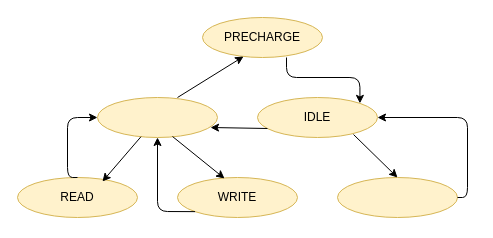
The diagram is 493 pixels wide and 238 high, and some of its shapes have lost their labels. The centre of each missing label's shape, as x and y in pixels:
"ACTIVE" goes at (x=157, y=117).
"REFRESH" goes at (x=397, y=197).
